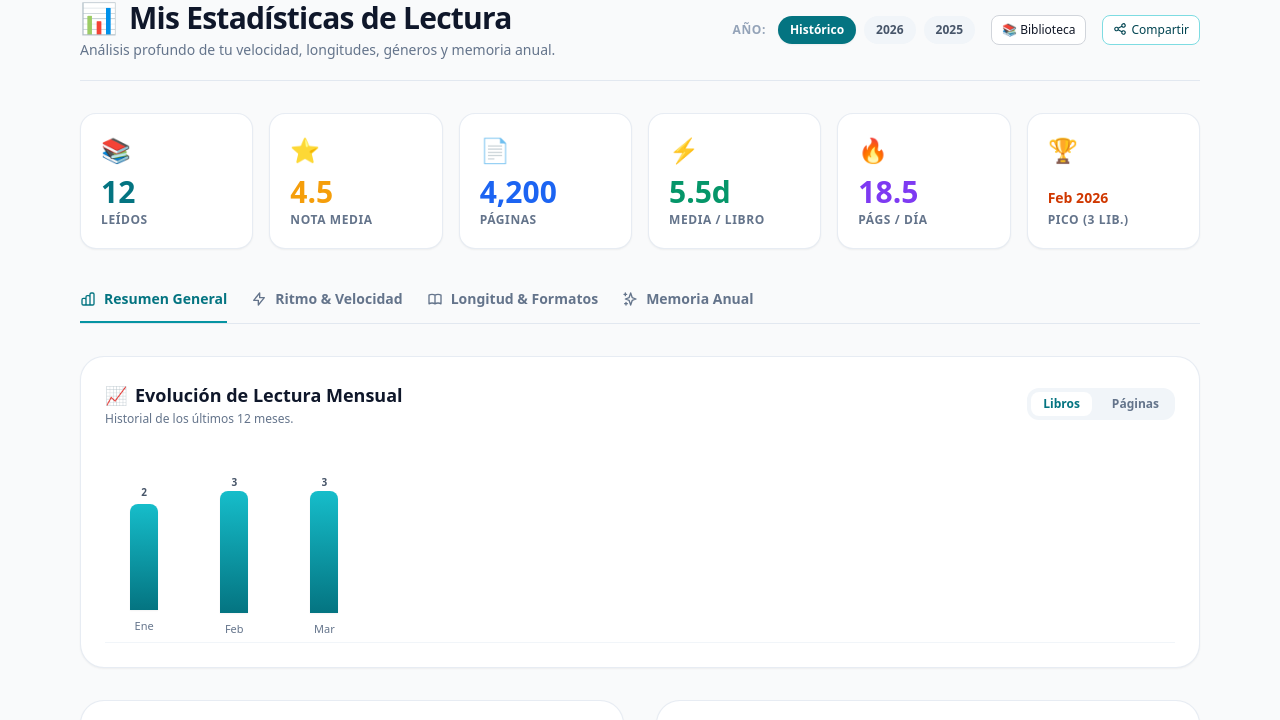
Scenario: ReadingStats Component › switches to review tab and displays year in review insights and year-over-year comparison
# Cambiar a "Memoria Anual"
Click the tab "Memoria Anual" at coordinates (688, 302), box [622, 281, 754, 323]
(page scrolled)
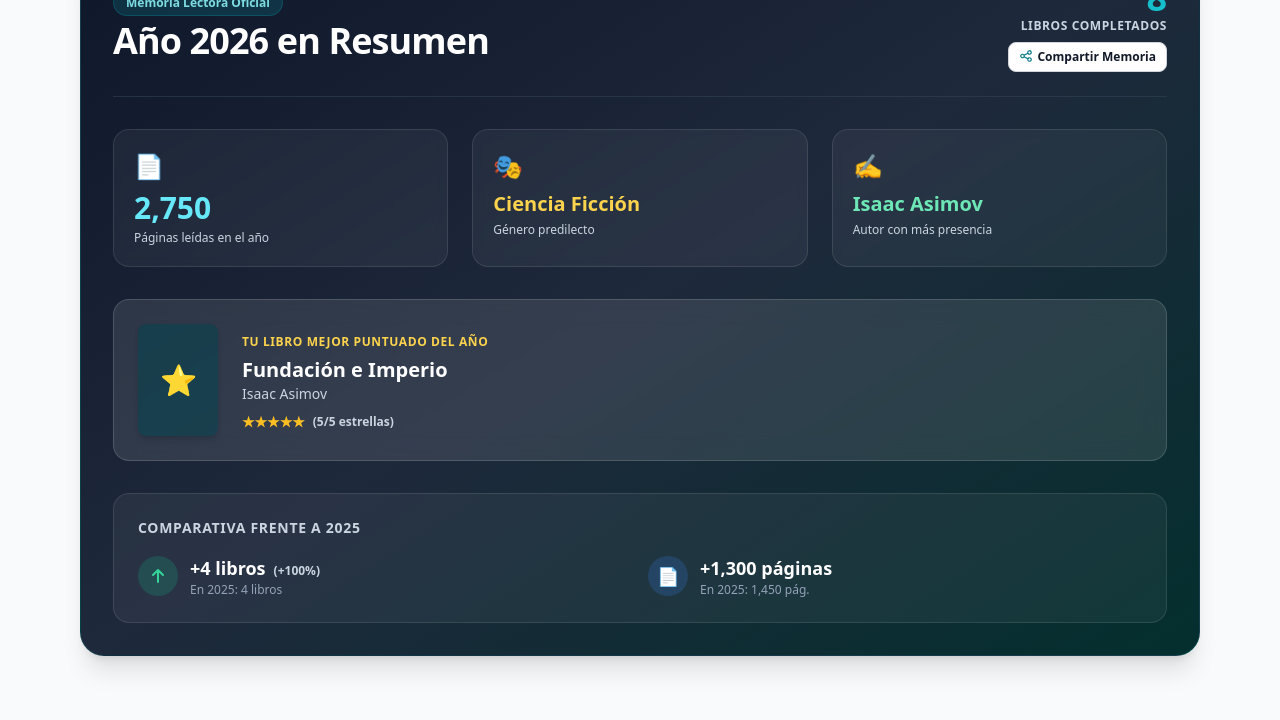
Expected: the heading "Año 2026 en Resumen" is shown, [113, 21, 489, 61]
Expected: the text "Tu libro mejor puntuado del año" is shown, [242, 333, 488, 350]
Expected: the heading "Comparativa frente a 2025" is shown, [138, 518, 361, 537]
